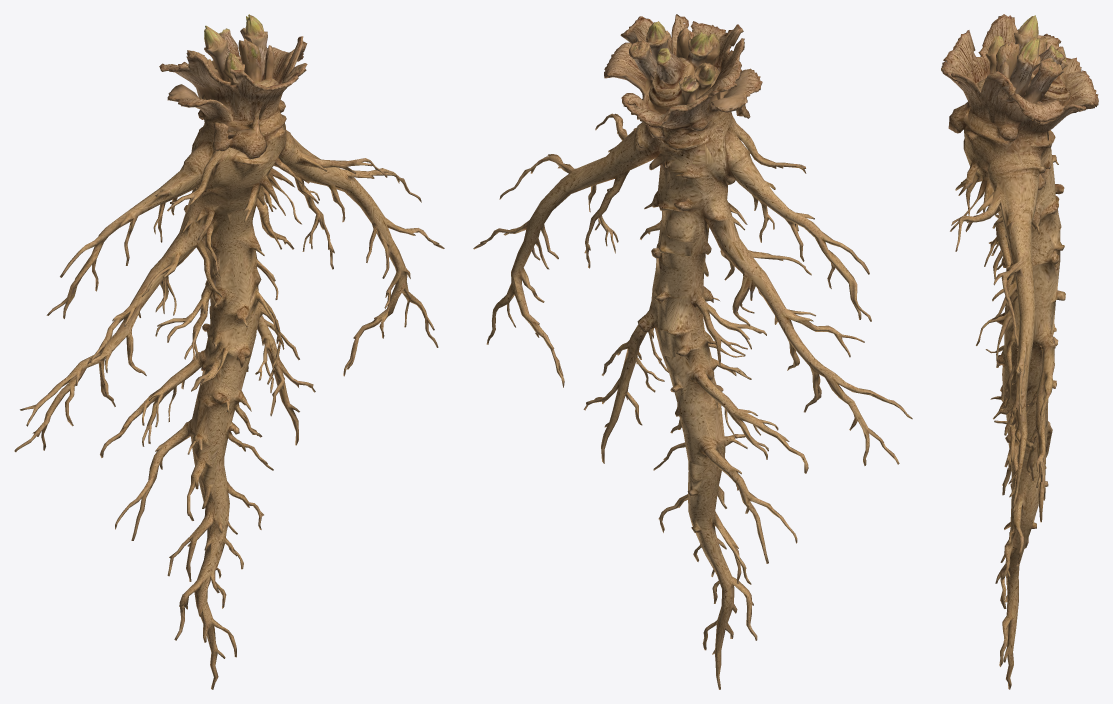
File: season_sowthistle_root.glb
3 renders of one model, left to right at view 1: azimuth 30°, elevation 25°; view 2: azimuth 150°, elevation 25°; view 3: azimuth 270°, elevation 25°, orthographic. The views are drawn at different scales.
Visible parts, largest first — view 1: Mesh_0; view 2: Mesh_0; view 3: Mesh_0.
Boxes of the visible parts, <box> form: Mesh_0: <box>14,14,444,689</box>; Mesh_0: <box>473,14,912,689</box>; Mesh_0: <box>941,14,1098,689</box>.
Size of the model in its own units: 0.6801 by 1 by 0.2113.
1 material, 1 textured.
